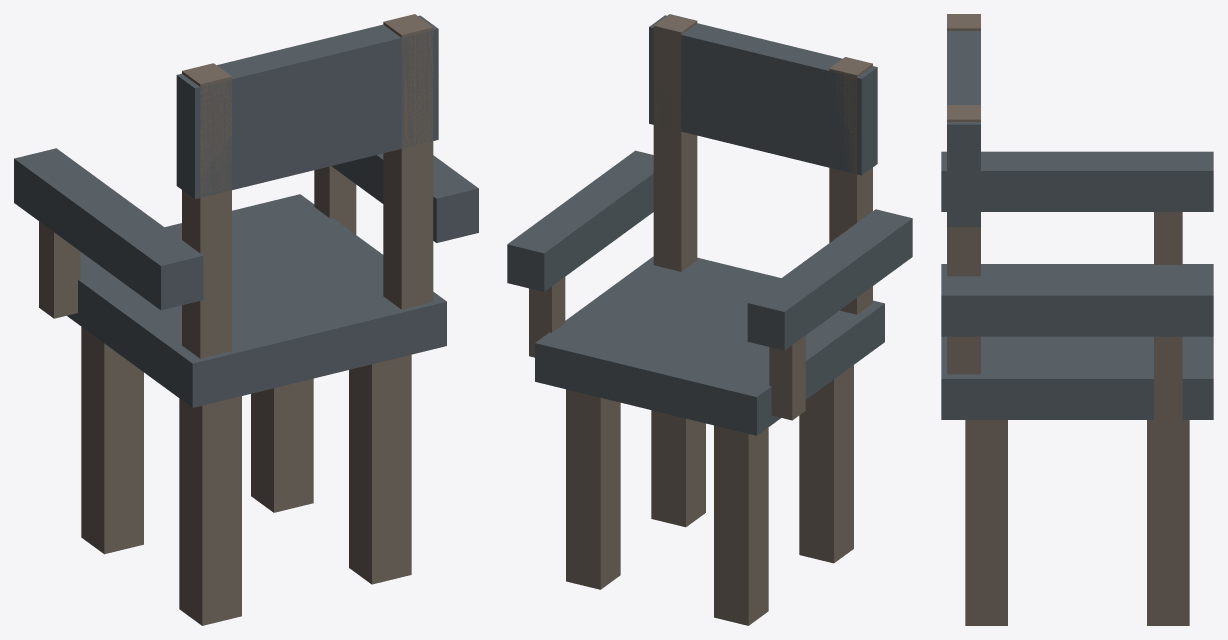
File: chair_office.glb
The picture shows the model from 3 angles, left to right: view 1: azimuth 30°, elevation 25°; view 2: azimuth 150°, elevation 25°; view 3: azimuth 270°, elevation 25°; orthographic projection. The views are drawn at different scales.
Parts seen in each view (by area): view 1: body; view 2: body; view 3: body.
Boxes of the visible parts, left/top/right/bottom form: body: left=14, top=14, right=478, bottom=625; body: left=507, top=14, right=912, bottom=625; body: left=941, top=14, right=1213, bottom=625.
Bounding box in the file's own units: 0.6 × 0.995 × 0.48.
